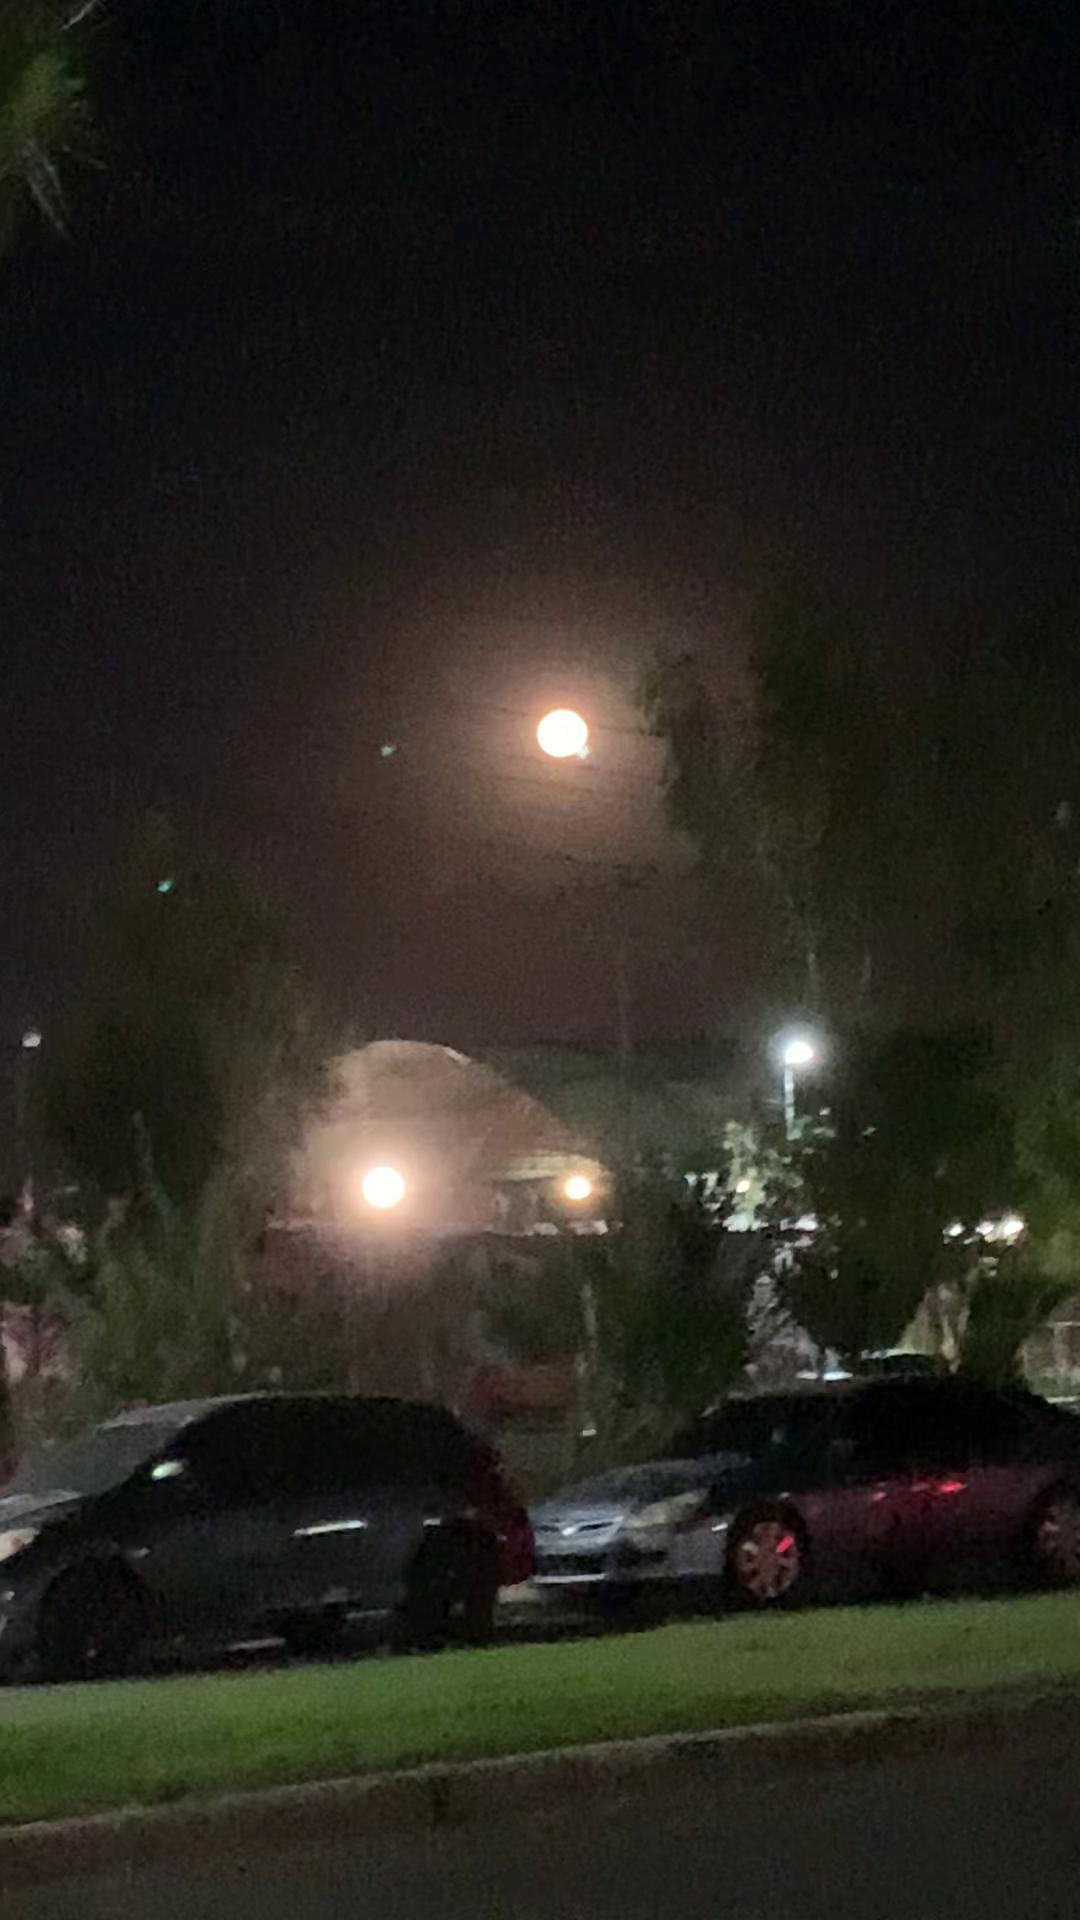moon: (531, 677, 620, 753)
